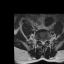CCS_normal: (42, 40, 43, 45)
LFS_stenosis: (45, 38, 46, 43)
LLS_normal: (43, 40, 45, 44)
RFS_stenosis: (39, 39, 41, 42)
RLS_normal: (41, 40, 42, 44)
